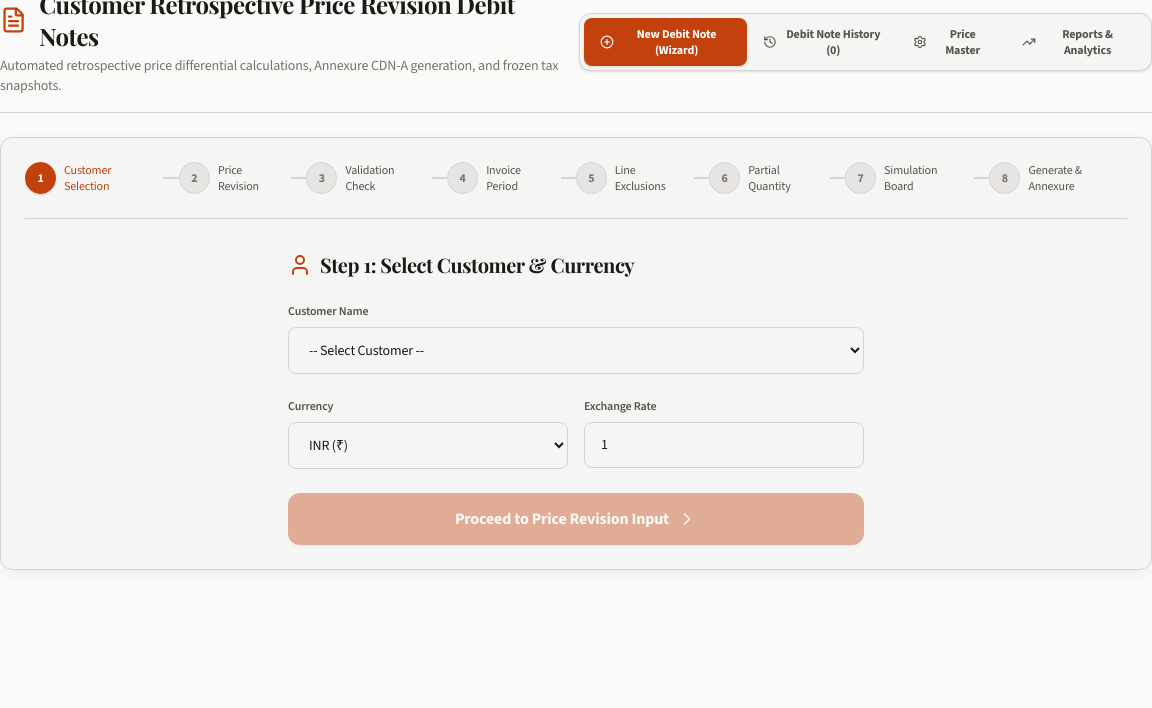
CustomerDebitNotesTab - History Edit Integration › 3. Details drawer also provides Edit Lines action for editable notes
Click the button "Debit Note History (0)".
click(822, 42)  # box [747,18,897,66]
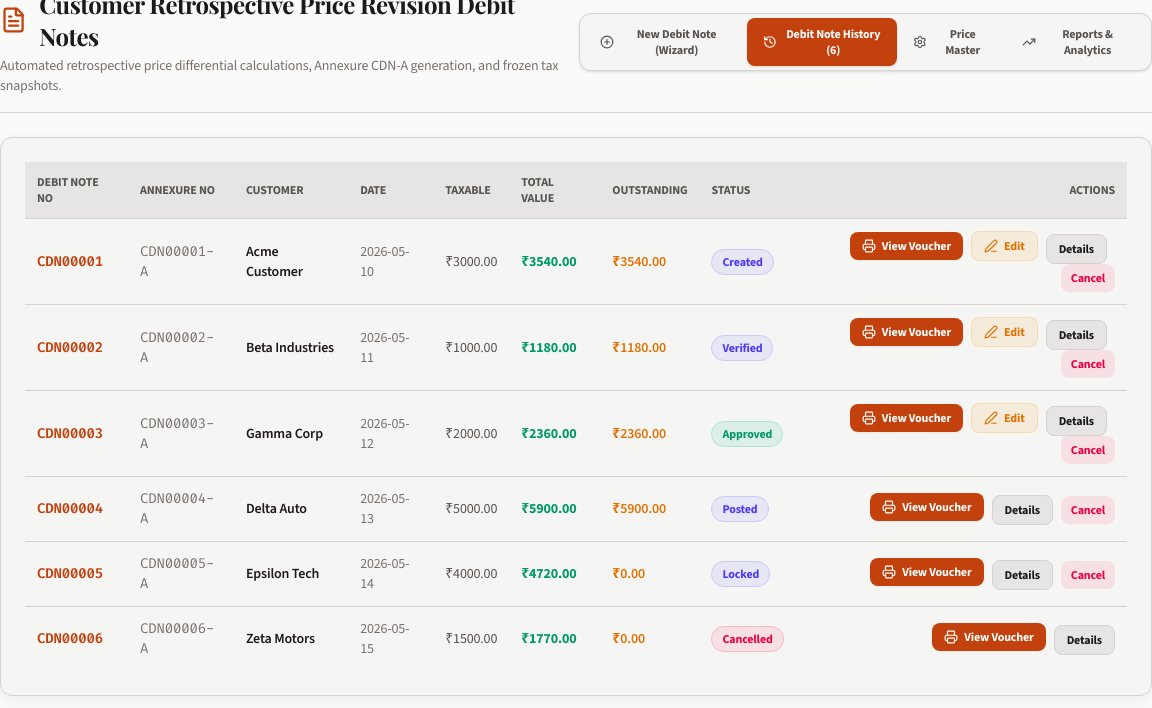
Now the text "CDN00001" is shown, box [25,218,128,304]
Now the text "CDN00004" is shown, box [25,476,128,542]
Click the button "Details" in the row of "CDN00001-A".
click(1076, 249)  # box [1046,234,1107,264]
(page scrolled)
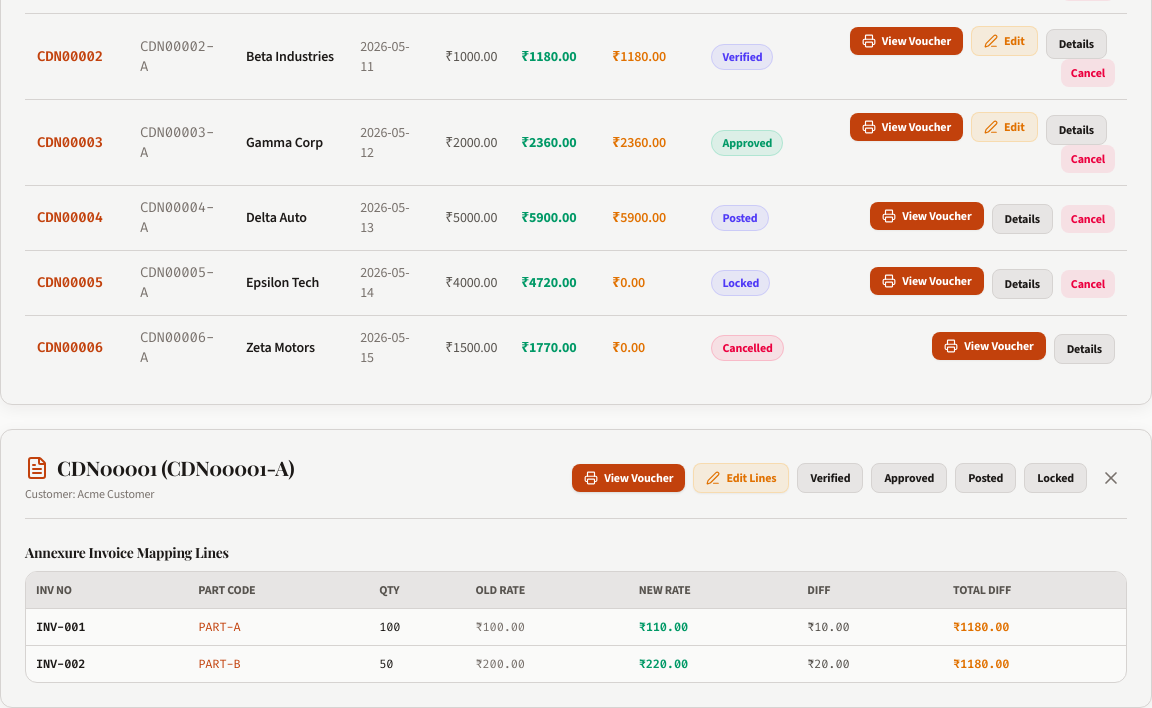
Now the heading "CDN00001 (CDN00001-A)" is shown, box [25,454,294,482]
Now the button "Edit Lines" is shown
Click the button "Edit Lines".
click(741, 478)  # box [693,463,789,493]
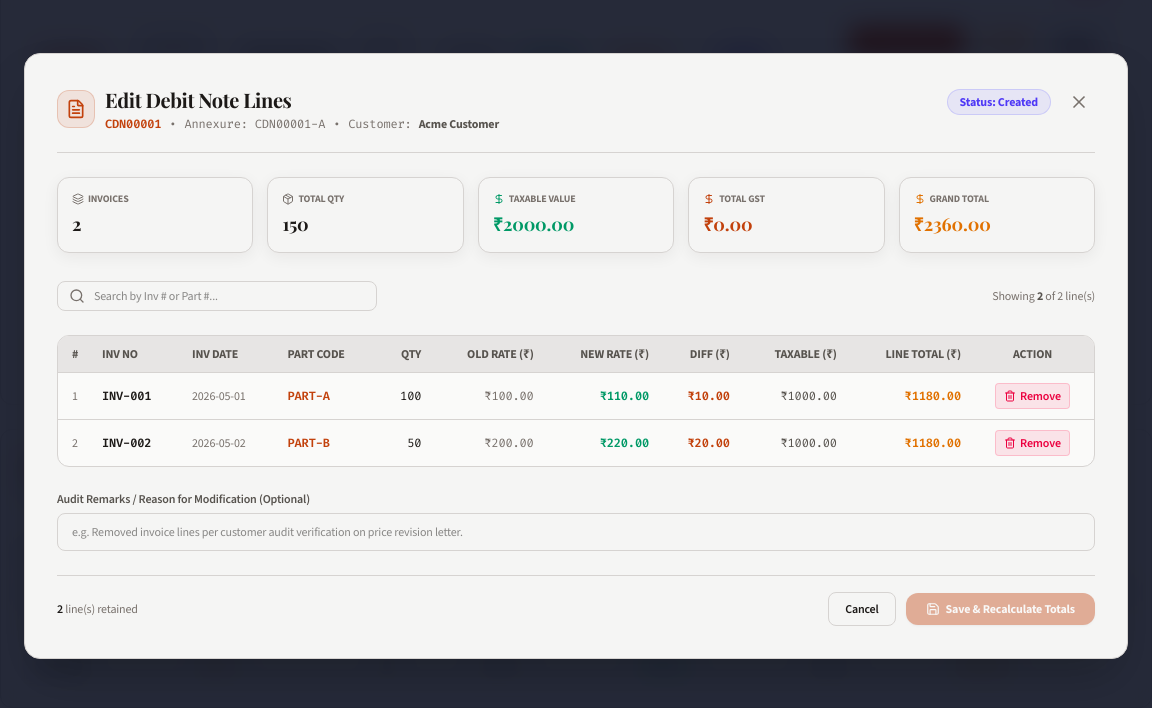
Now the heading "Edit Debit Note Lines" is shown, box [105,86,291,113]
